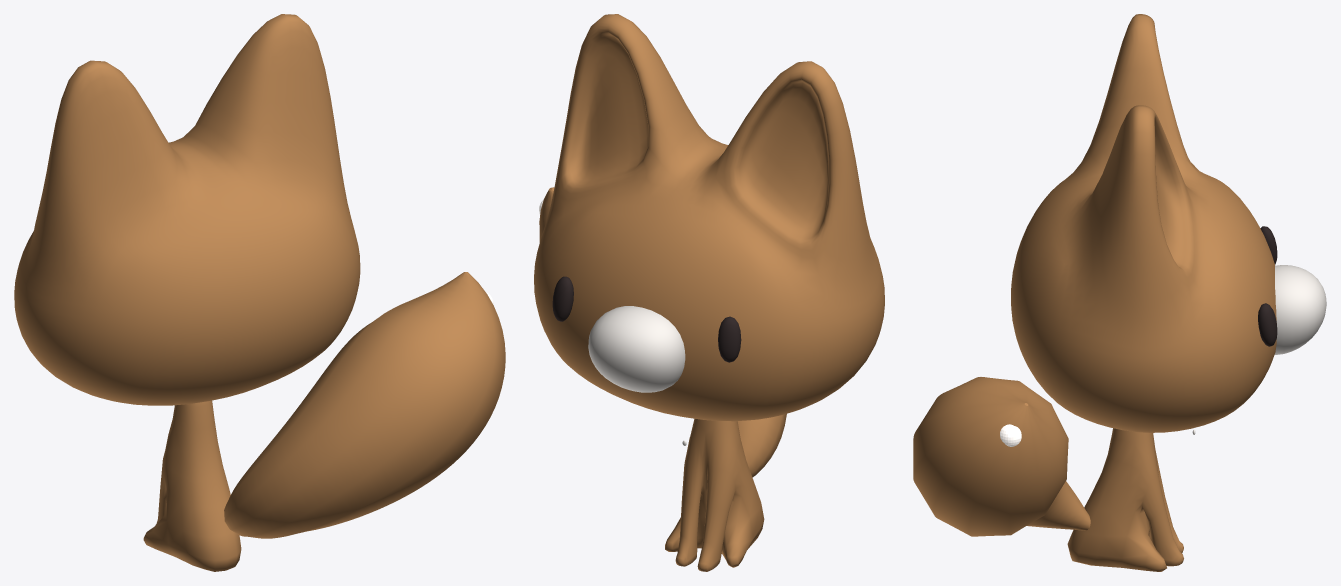
The model's file is fox-base-v8.glb.
3 views of the same model, side by side, from view 1: azimuth 30°, elevation 25°; view 2: azimuth 150°, elevation 25°; view 3: azimuth 270°, elevation 25° (orthographic). The views are drawn at different scales.
Parts seen in each view (by area): view 1: FoxBase_Head, FoxBase_Tail, FoxBase_Body; view 2: FoxBase_Head, FoxBase_Body, FoxBase_Muzzle, FoxBase_Tail, FoxBase_EyeLeft, FoxBase_EyeRight; view 3: FoxBase_Head, FoxBase_Tail, FoxBase_Body, FoxBase_Muzzle, FoxBase_EyeRight.
Boxes of the visible parts, box(x1,y1,x2,y2) form: FoxBase_Head: box(14, 14, 360, 405); FoxBase_Tail: box(224, 272, 505, 538); FoxBase_Body: box(143, 400, 241, 571); FoxBase_Head: box(534, 14, 884, 421); FoxBase_Body: box(665, 418, 764, 571); FoxBase_Muzzle: box(588, 306, 685, 392); FoxBase_Tail: box(539, 187, 786, 477); FoxBase_EyeLeft: box(718, 316, 741, 362); FoxBase_EyeRight: box(552, 276, 573, 321); FoxBase_Head: box(1011, 14, 1276, 432); FoxBase_Tail: box(913, 377, 1090, 536); FoxBase_Body: box(1067, 428, 1183, 571); FoxBase_Muzzle: box(1274, 265, 1326, 354); FoxBase_EyeRight: box(1258, 303, 1277, 346).
Size of the model in its own units: 0.3379 by 0.4196 by 0.3152.
